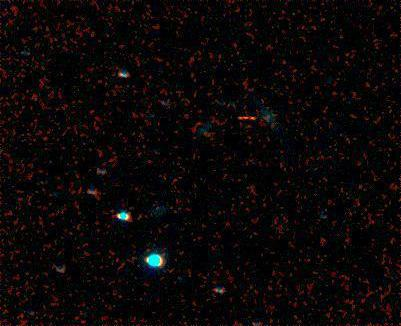star: (231, 101, 261, 131)
